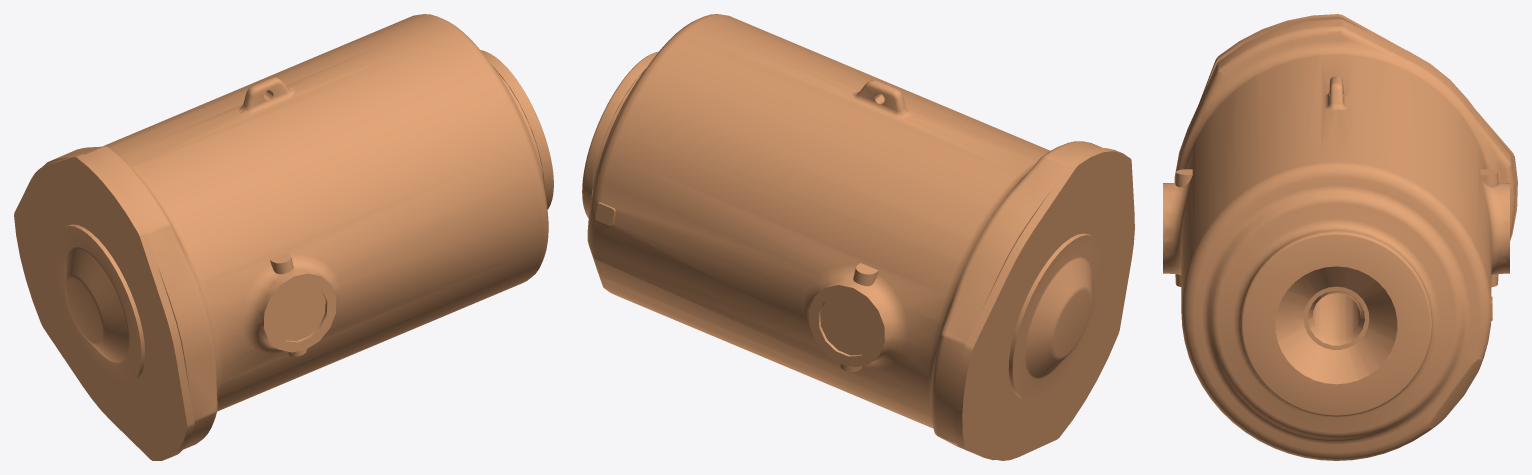
3 views of the same model, side by side, from view 1: azimuth 30°, elevation 25°; view 2: azimuth 150°, elevation 25°; view 3: azimuth 270°, elevation 25° (orthographic). The views are drawn at different scales.
Parts seen in each view (by area): view 1: cylinder_link; view 2: cylinder_link; view 3: cylinder_link.
Boxes of the visible parts, x1,y1,x2,y2 form: cylinder_link: [14, 14, 553, 460]; cylinder_link: [582, 14, 1134, 460]; cylinder_link: [1163, 14, 1517, 460].
Bounding box in the file's own units: 0.6022 × 0.3888 × 0.4367.
